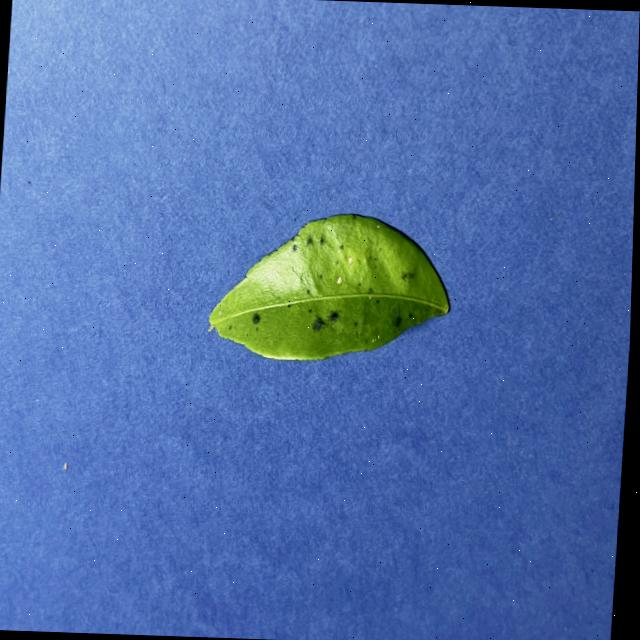sooty_mold: (208, 213, 447, 359)
